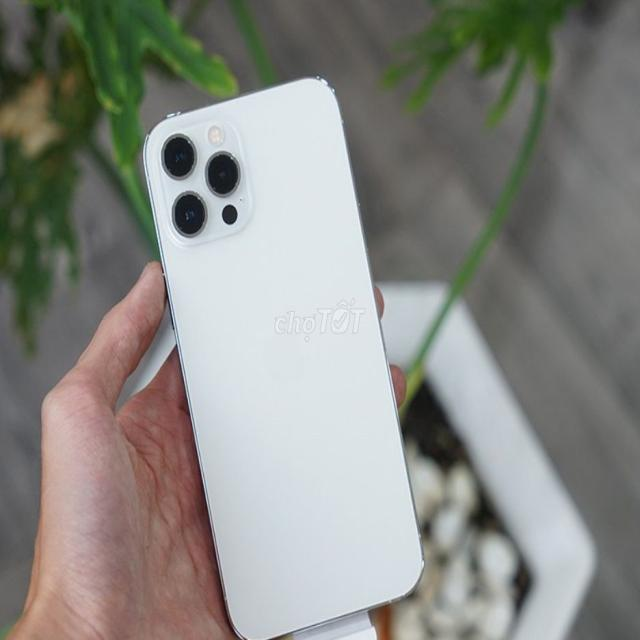gen_12_13: (139, 73, 427, 640)
